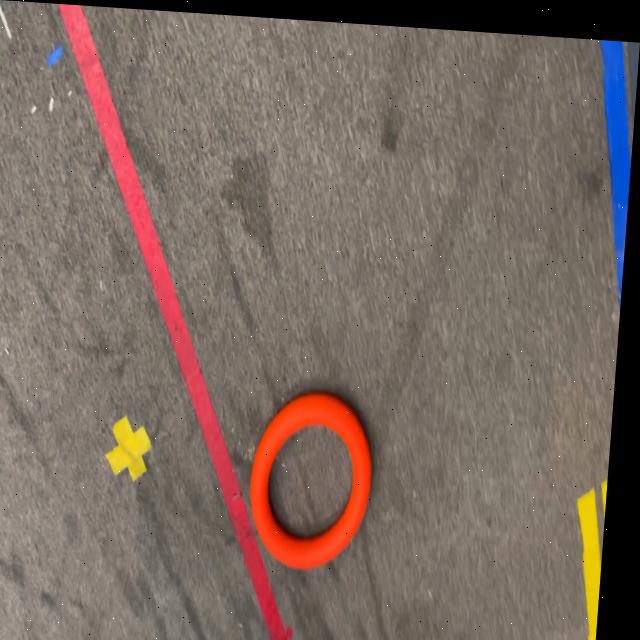note: (254, 386, 383, 570)
